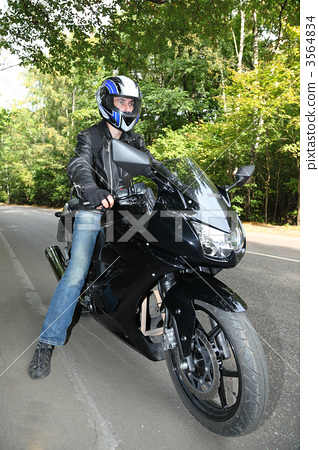helmet: (90, 80, 148, 132)
